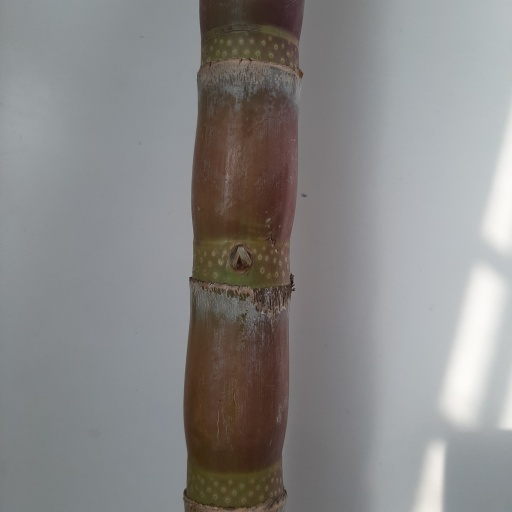Bud: (228, 243, 254, 272)
